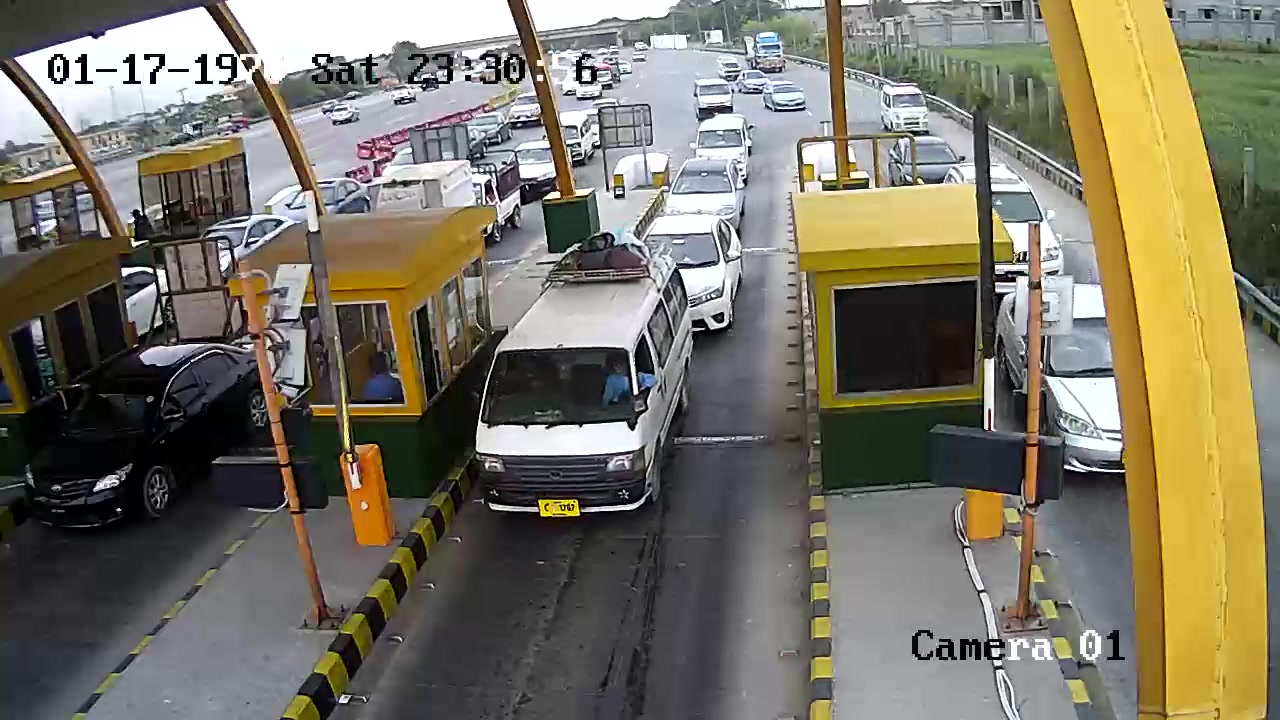F3: (469, 228, 706, 540)
